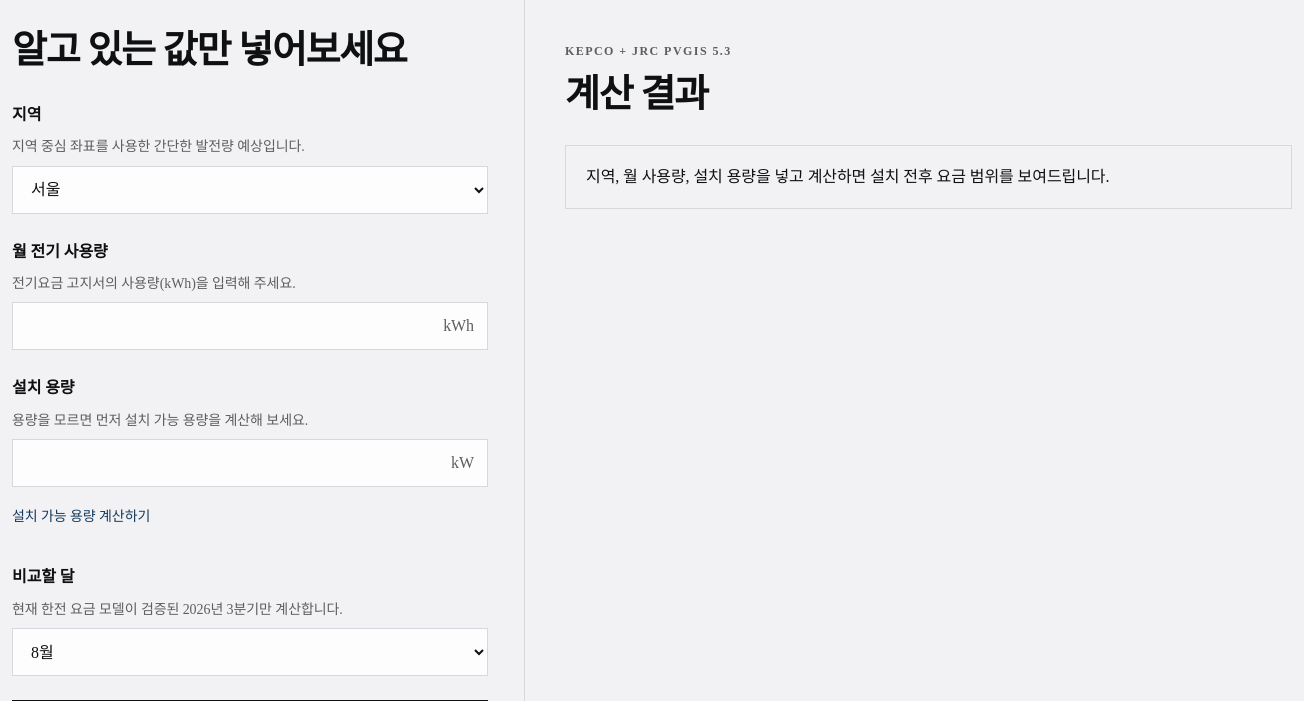
BillSavingsCalculator › connects PVGIS generation to the verified bill-savings range and keeps source dates near the result
This screenshot has width=1304, height=701.
Type "400" into the field labelled "월 전기 사용량".
click(250, 326); type("400")  # box [12,302,488,350]
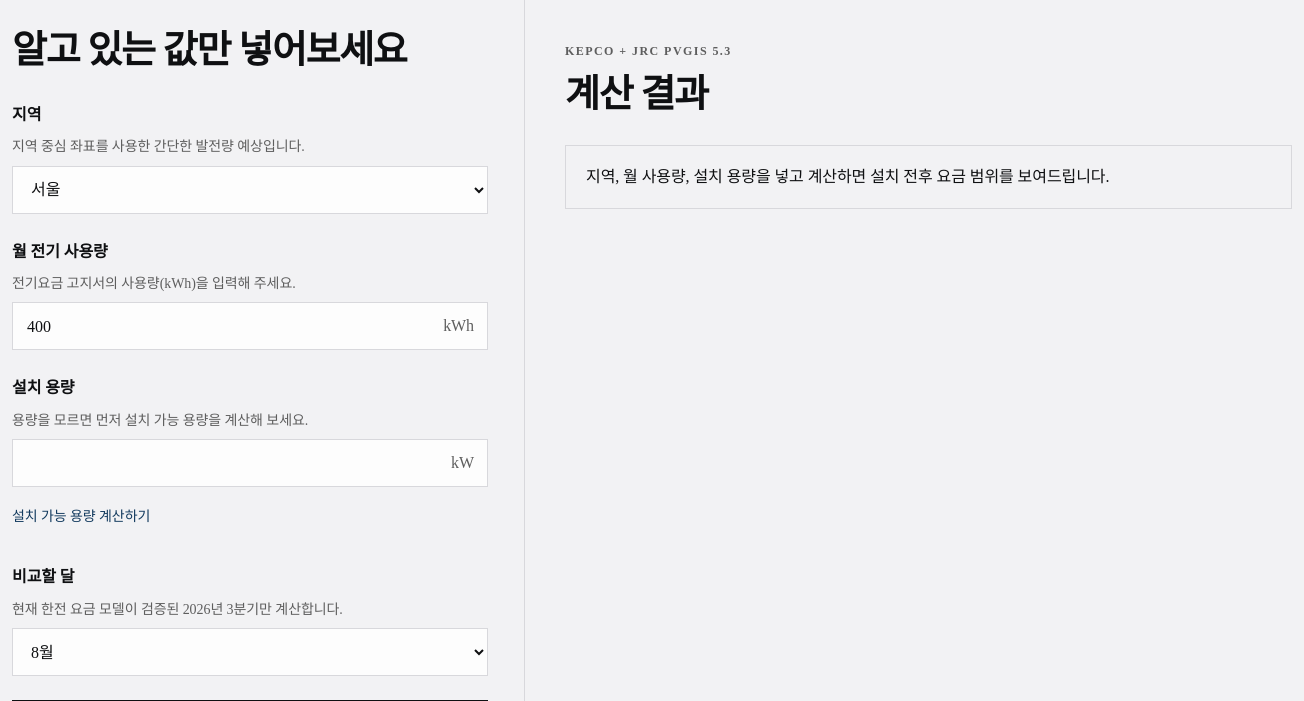
Type "3" into the field labelled "설치 용량".
click(250, 463); type("3")  # box [12,439,488,487]
(page scrolled)
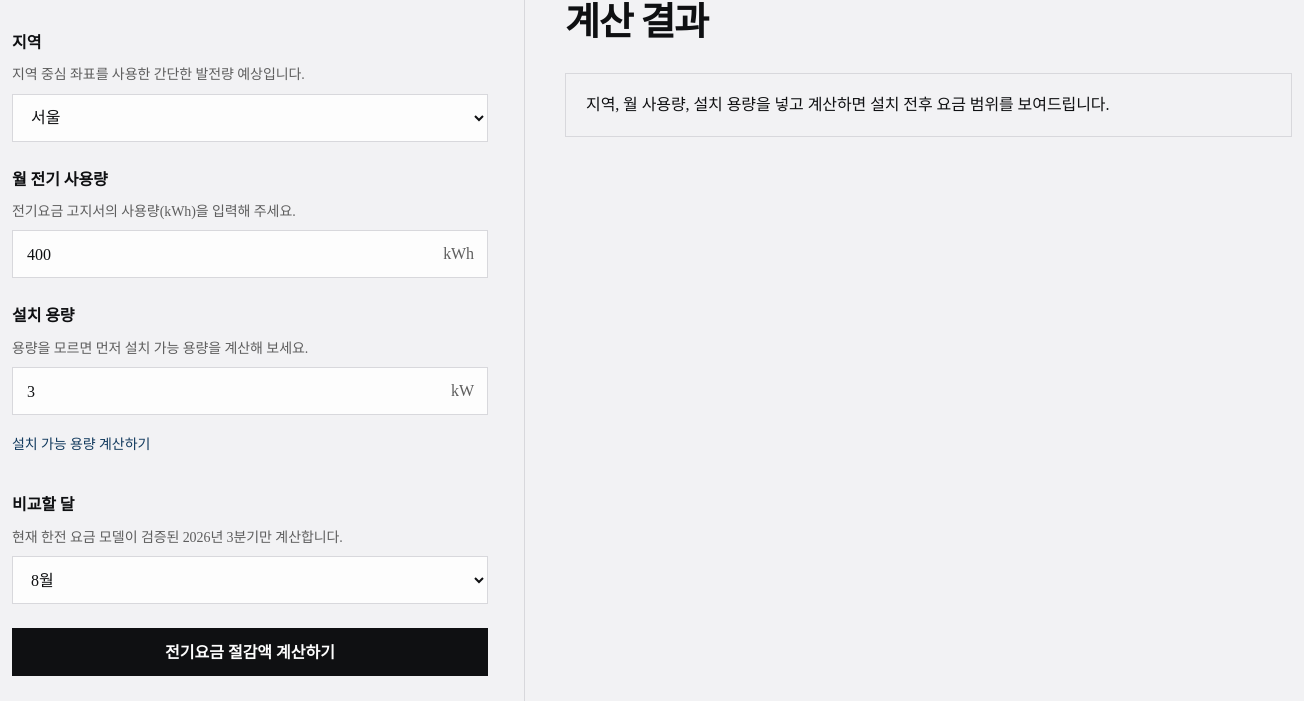
Click the button "전기요금 절감액 계산하기".
click(250, 652)  # box [12,628,488,676]
(page scrolled)
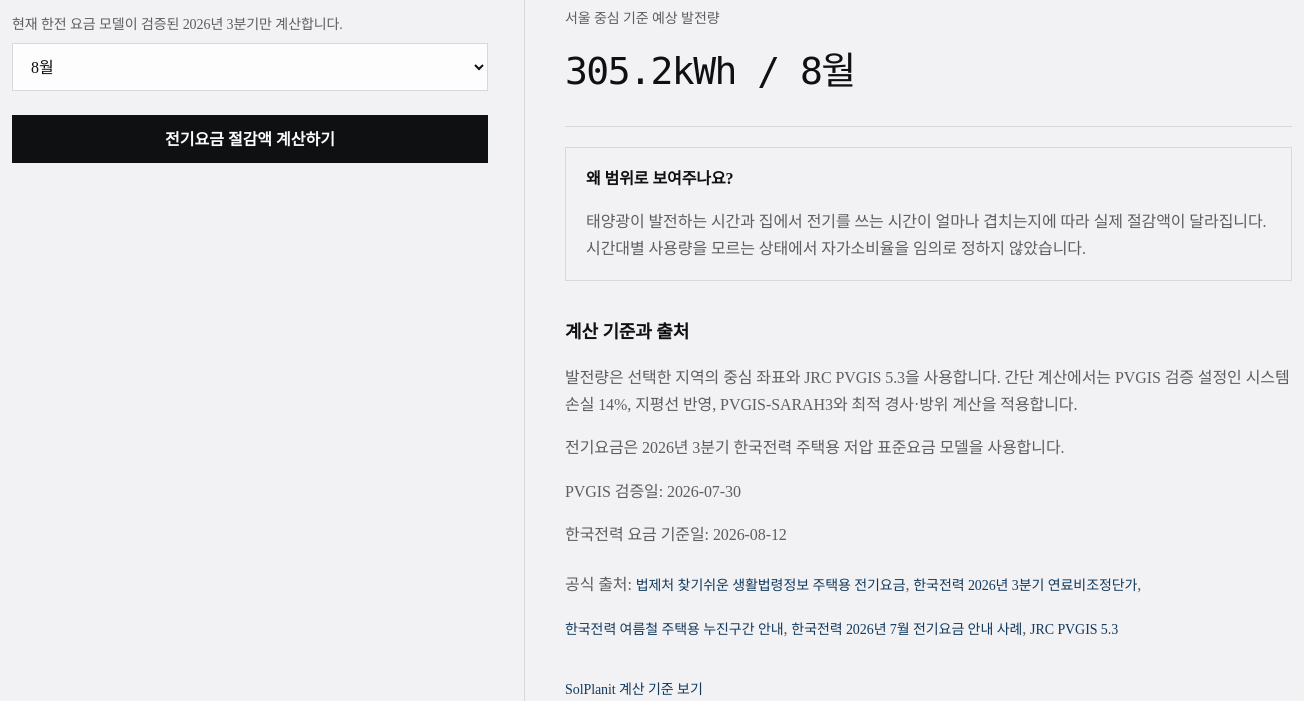
Now the text "서울 중심 기준 예상 발전량" is shown, box [565,11,720,26]
Now the text "305.2kWh / 8월" is shown, box [565,49,855,93]
Now the text "자가소비율을 임의로 정하지 않았습니다" is shown, box [586,213,1266,257]
